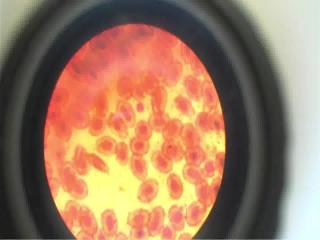cell: (180, 72, 200, 99), (154, 152, 175, 176), (161, 140, 184, 160), (120, 102, 140, 124), (100, 210, 120, 232), (124, 206, 146, 226), (49, 88, 74, 105), (174, 96, 195, 116), (82, 204, 97, 231), (150, 205, 163, 236), (166, 204, 185, 225), (138, 184, 160, 202), (184, 125, 202, 147), (167, 174, 184, 197), (116, 142, 132, 166), (135, 25, 159, 41), (69, 178, 90, 196), (64, 200, 78, 226), (107, 114, 127, 132), (95, 136, 115, 154), (131, 158, 148, 179), (183, 165, 204, 182), (92, 32, 109, 53), (76, 147, 90, 172), (67, 58, 85, 77), (163, 123, 183, 140), (189, 205, 205, 226), (195, 183, 211, 204), (131, 137, 151, 153), (187, 150, 208, 165), (118, 46, 139, 61), (150, 113, 172, 127), (62, 163, 73, 190), (199, 113, 214, 132)
